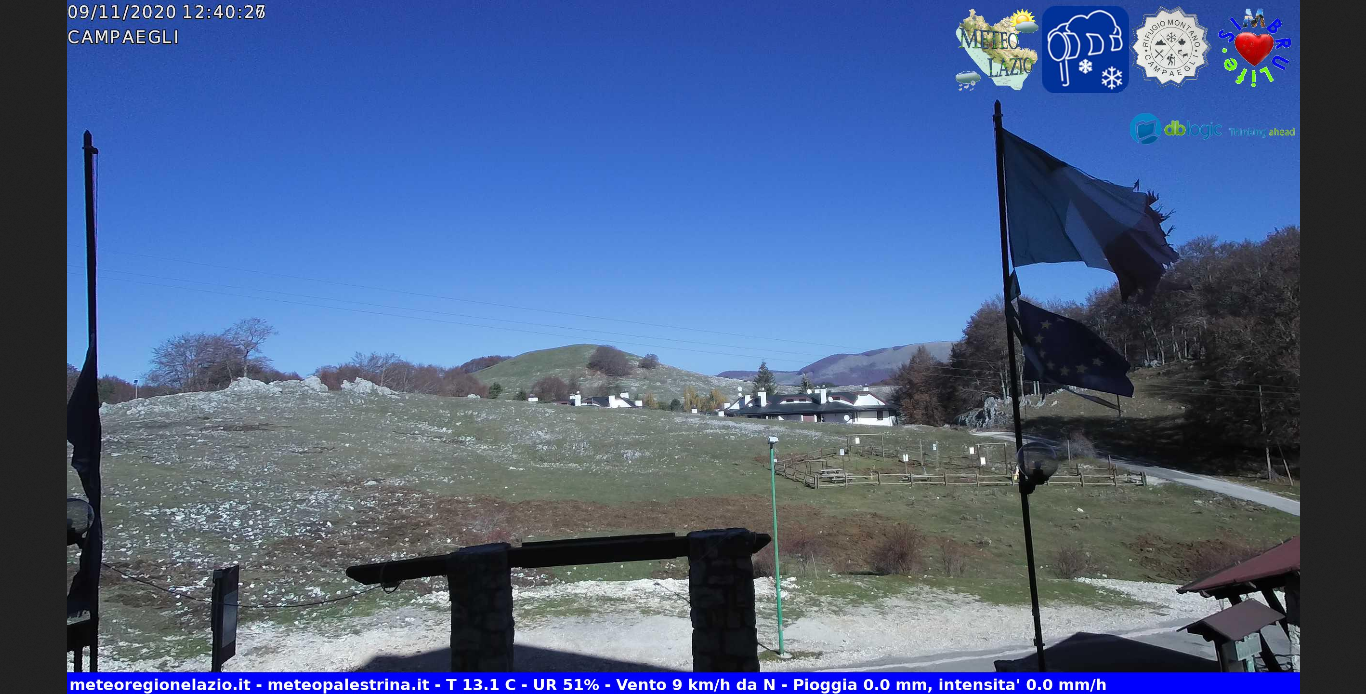maybe: (982, 105, 1180, 303), (1007, 290, 1140, 423)
